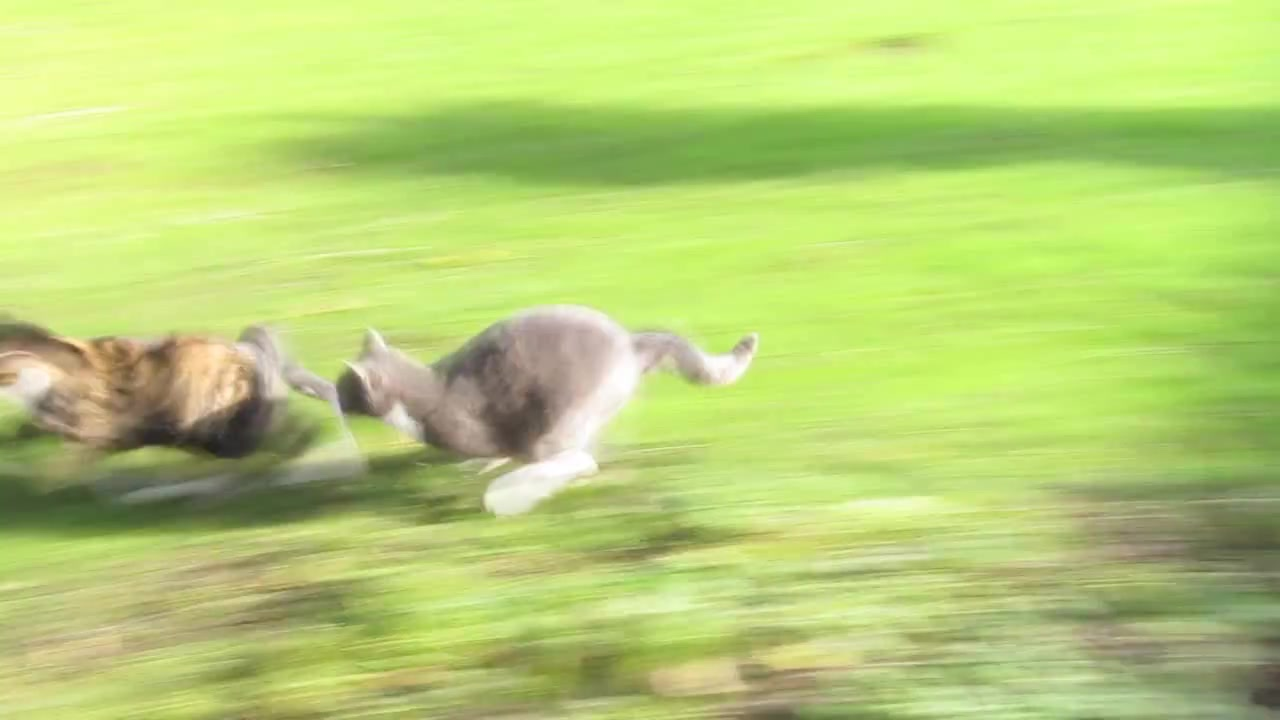cat: (332, 304, 763, 519)
